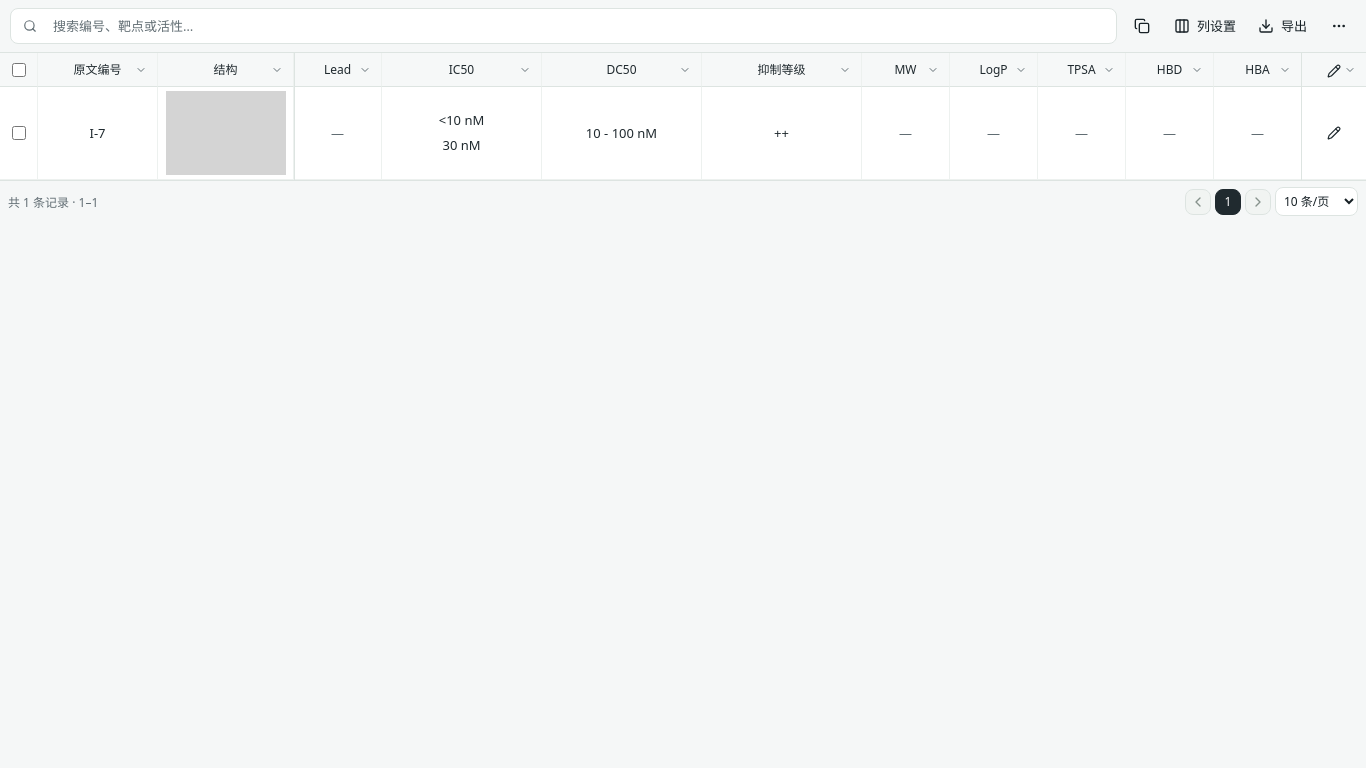
it: dense evidence-led result workspace › keeps statistics and explanations off the primary table and opens them on demand
Expected: the number of fields named "搜索结果" is 1, top-left (45, 9), bottom-right (1116, 43)
Click the button named "列表选项" at (1339, 26), box top-left (1322, 9), bottom-right (1356, 43)
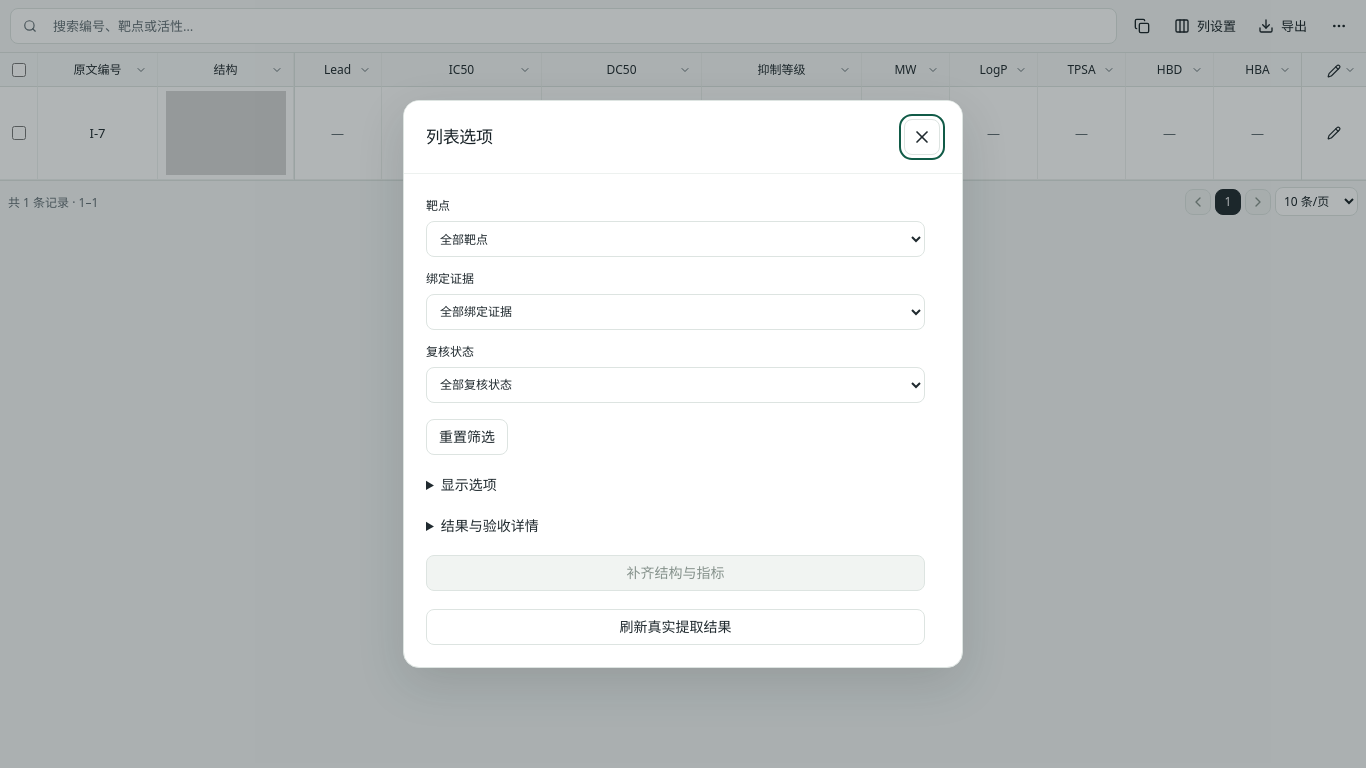
Click the heading "结果与验收详情" at (490, 525), box top-left (441, 516), bottom-right (539, 535)
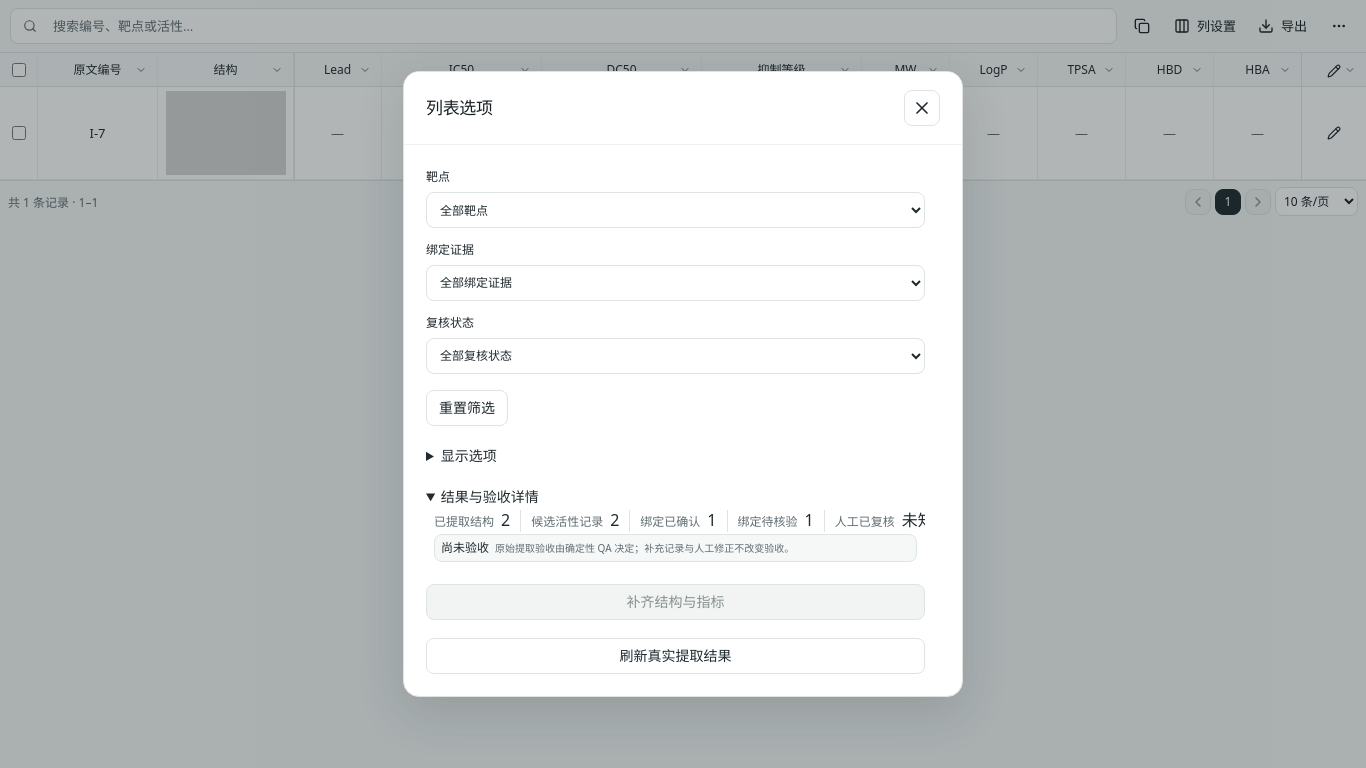
Expected: the element named "项目真实统计" is shown, top-left (426, 508), bottom-right (925, 534)
Expected: the message named "提取验收与阻塞状态" is shown, top-left (434, 534), bottom-right (917, 562)
